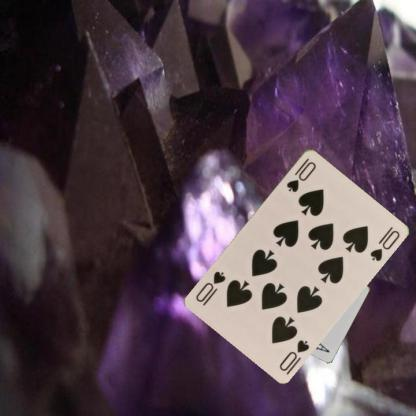10s: (284, 155, 318, 193), (277, 336, 311, 372)
